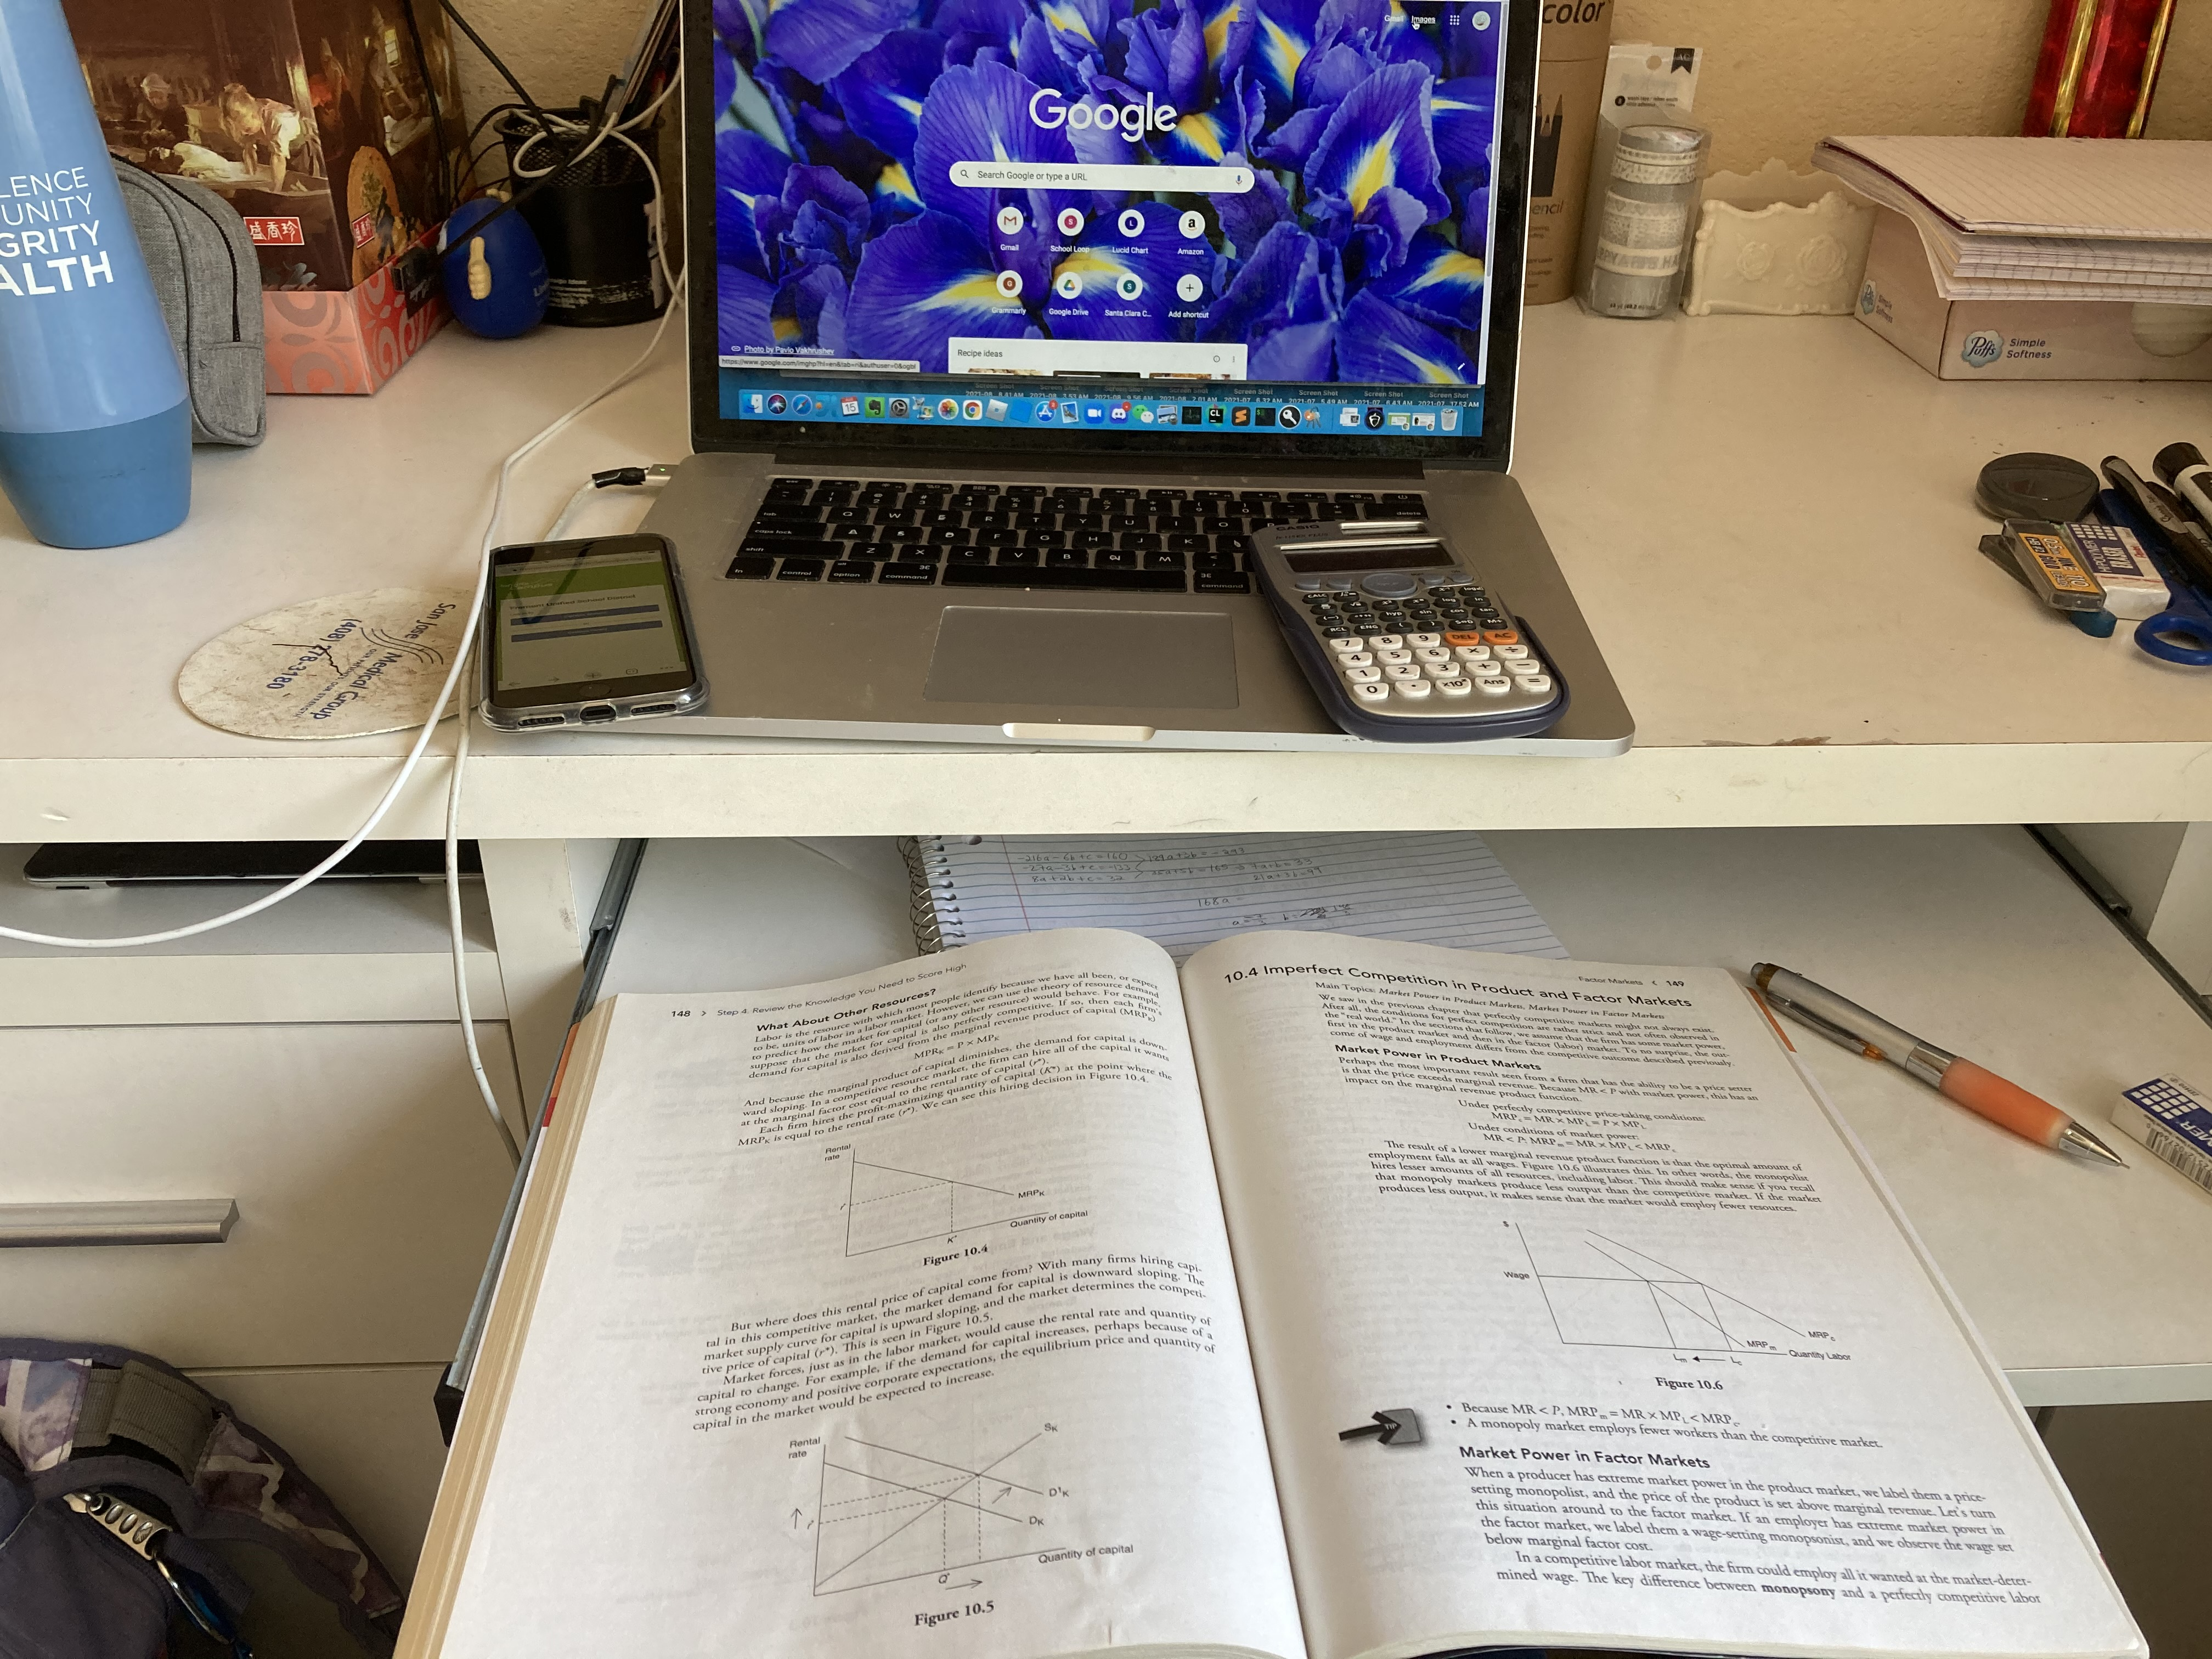Calculator: (1252, 512, 1569, 746)
Cell Phone: (481, 533, 705, 732)
Open Book: (425, 920, 2156, 1659)
